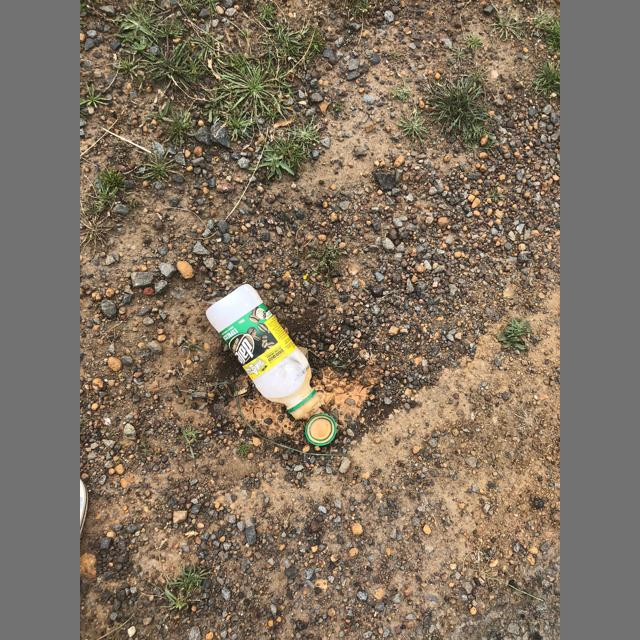litter: (206, 284, 320, 419), (306, 414, 337, 446)
